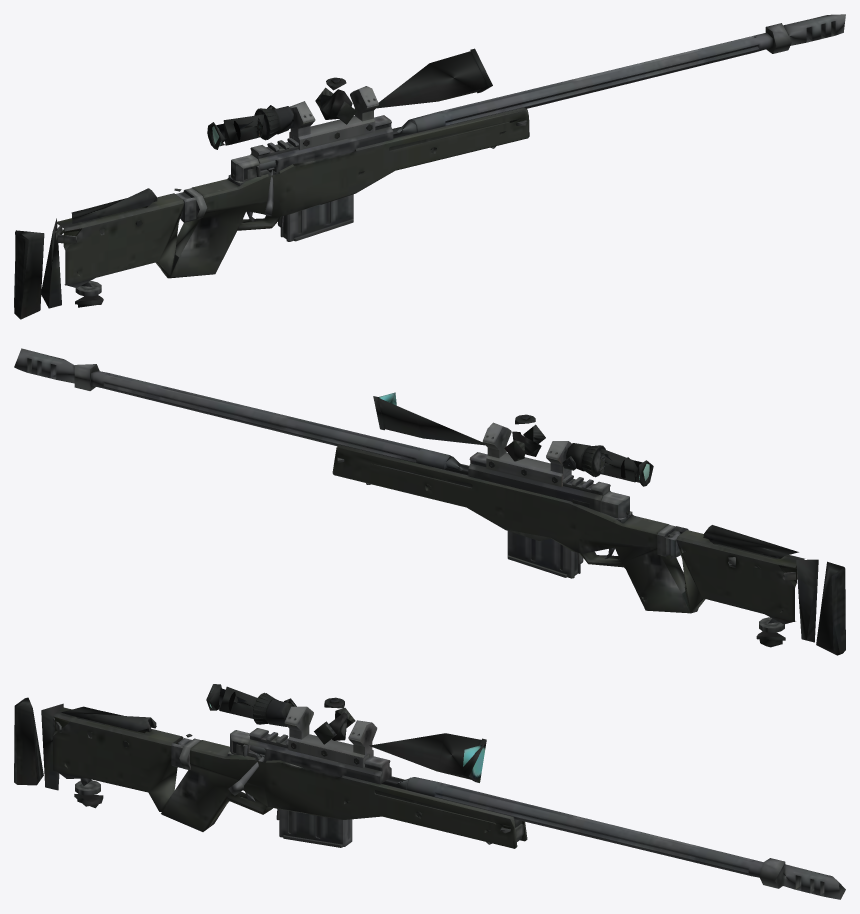
File: sniper50_lod1.glb
3 renders of one model, top to bottom at view 1: azimuth 30°, elevation 25°; view 2: azimuth 150°, elevation 25°; view 3: azimuth 330°, elevation 25°, orthographic.
Visible parts, largest first — view 1: base, scope, mag, boltrear; view 2: base, scope, mag, boltrear; view 3: base, scope, mag, boltrear, bolt.
Part boxes in pixels (x1,y1,x2,y2): base: (14,14,845,319); scope: (207,48,492,149); mag: (280,194,353,241); boltrear: (231,154,261,181); base: (14,348,845,655); scope: (373,392,653,486); mag: (507,531,580,578); boltrear: (601,491,629,518); base: (14,697,845,899); scope: (206,684,486,782); mag: (279,809,352,847); boltrear: (230,730,255,756); bolt: (228,745,265,795).
Bounding box in the file's own units: 1.53 × 0.2947 × 0.0978.
Materials: 3 (2 with a texture image).
